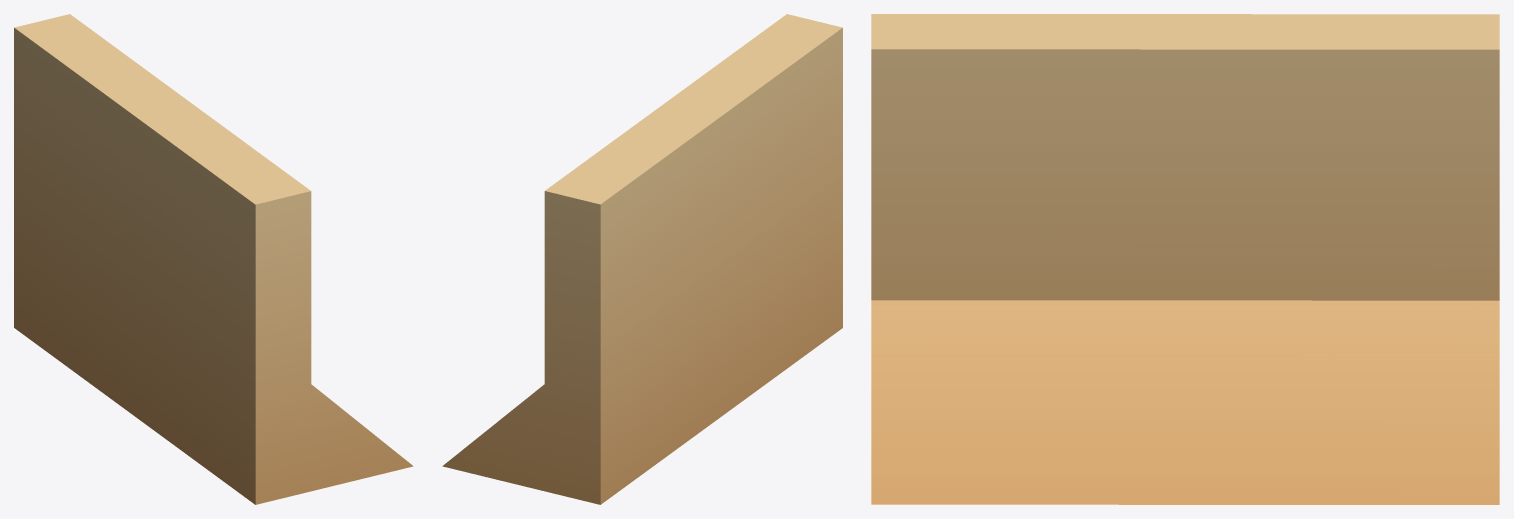
The model's file is base_to_corridor_wall_mirrored.fbx.
3 renders of one model, left to right at view 1: azimuth 30°, elevation 25°; view 2: azimuth 150°, elevation 25°; view 3: azimuth 270°, elevation 25°, orthographic. The views are drawn at different scales.
Parts seen in each view (by area): view 1: base.to.corridor.wall.mirrored; view 2: base.to.corridor.wall.mirrored; view 3: base.to.corridor.wall.mirrored.
Part boxes in pixels (x1,y1,x2,y2): base.to.corridor.wall.mirrored: (14,14,413,504); base.to.corridor.wall.mirrored: (442,14,842,504); base.to.corridor.wall.mirrored: (871,14,1499,504).
Size of the model in its own units: 15.05 by 27.2 by 39.7.
